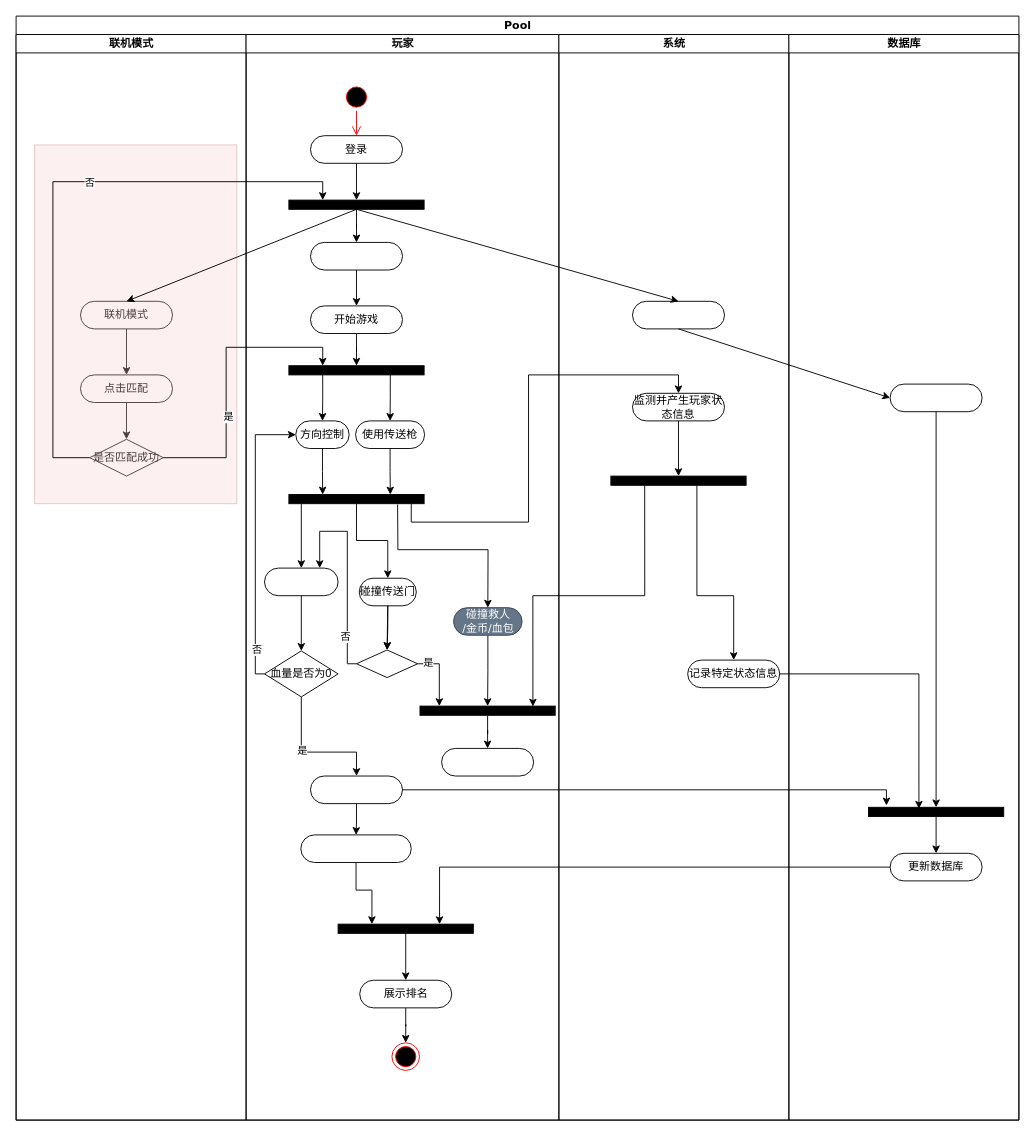
This 1035x1136 diagram has some shape labels left out. The centre of each missing label's shape, as x and y in pixels:
产生玩家信息: [678,314]
存入数据库: [935,397]
效果响应: [487,762]
是否双门: [387,663]
游戏结束: [356,789]
碰撞障碍物: [301,581]
进入教程: [356,256]
进阶部分，未完成: [135,324]
选择输入队友信息: [355,848]
